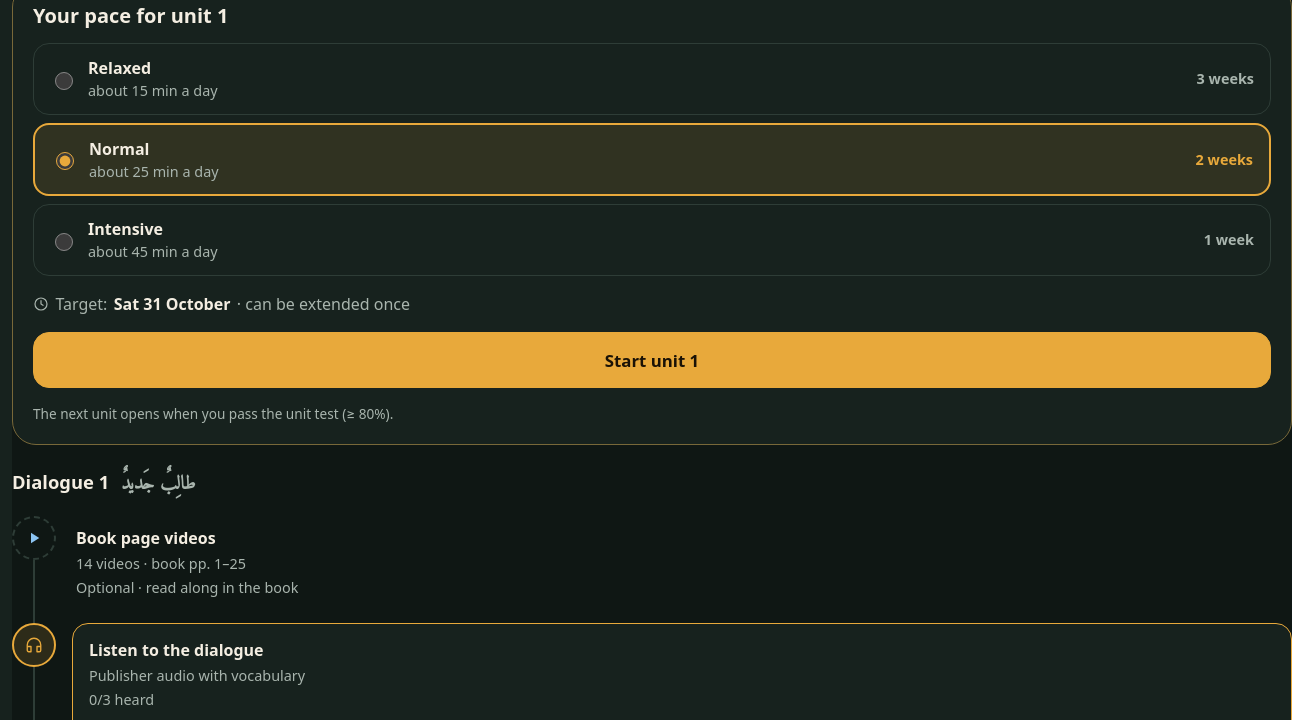
learner screens in English (integration) › starts a unit with an English pace picker and countdown
The width and height of the screenshot is (1292, 720).
(page scrolled)
Expected: the heading "Your pace for unit 1" is shown, 33,2 -> 228,29
Expected: the text "Relaxed" is shown, 88,57 -> 151,79
Click the button "Start unit 1": [652, 360] box 33,332 -> 1271,388
(page scrolled)
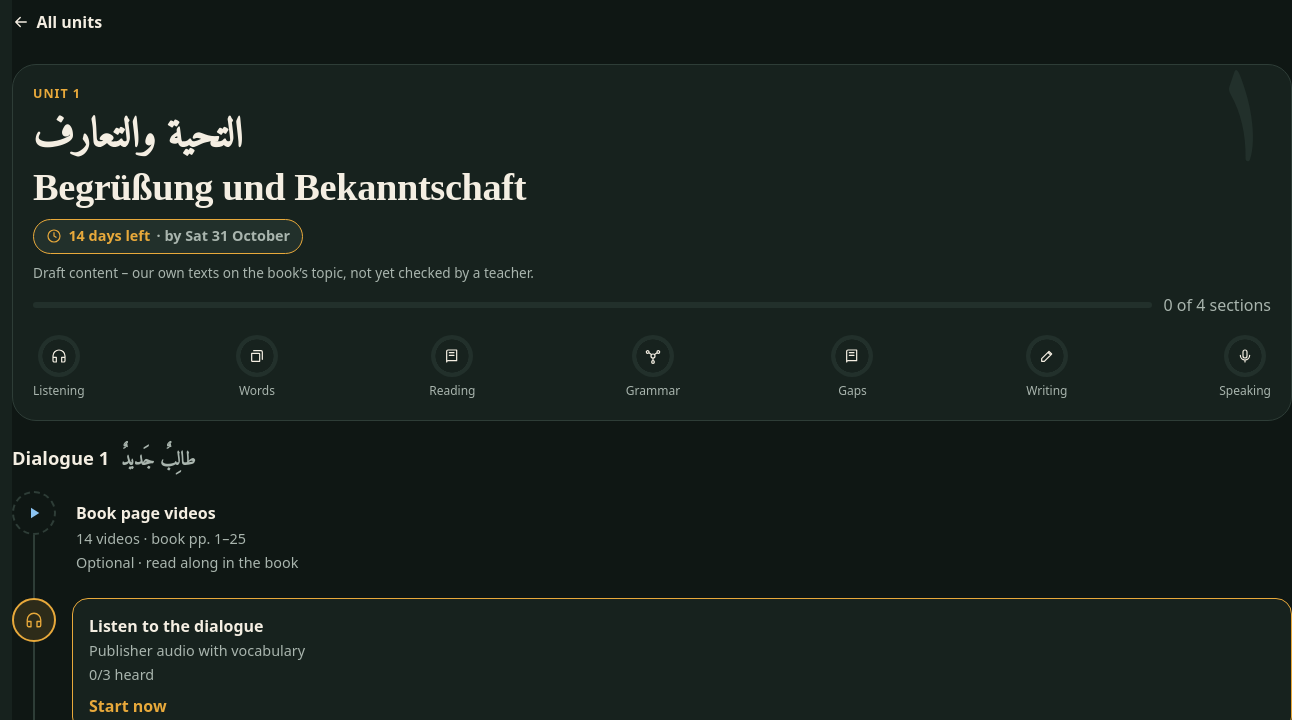
Now the text "14 days left" is shown, box 68,226 -> 150,246
